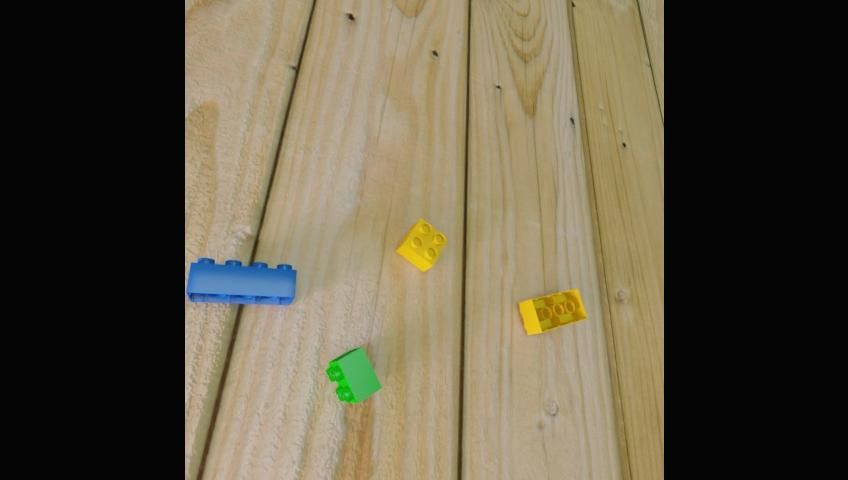2x2_green: (326, 347, 382, 402)
2x2_yellow: (396, 218, 448, 270)
4x2_blue: (187, 258, 298, 305)
4x2_yellow: (519, 288, 588, 334)
